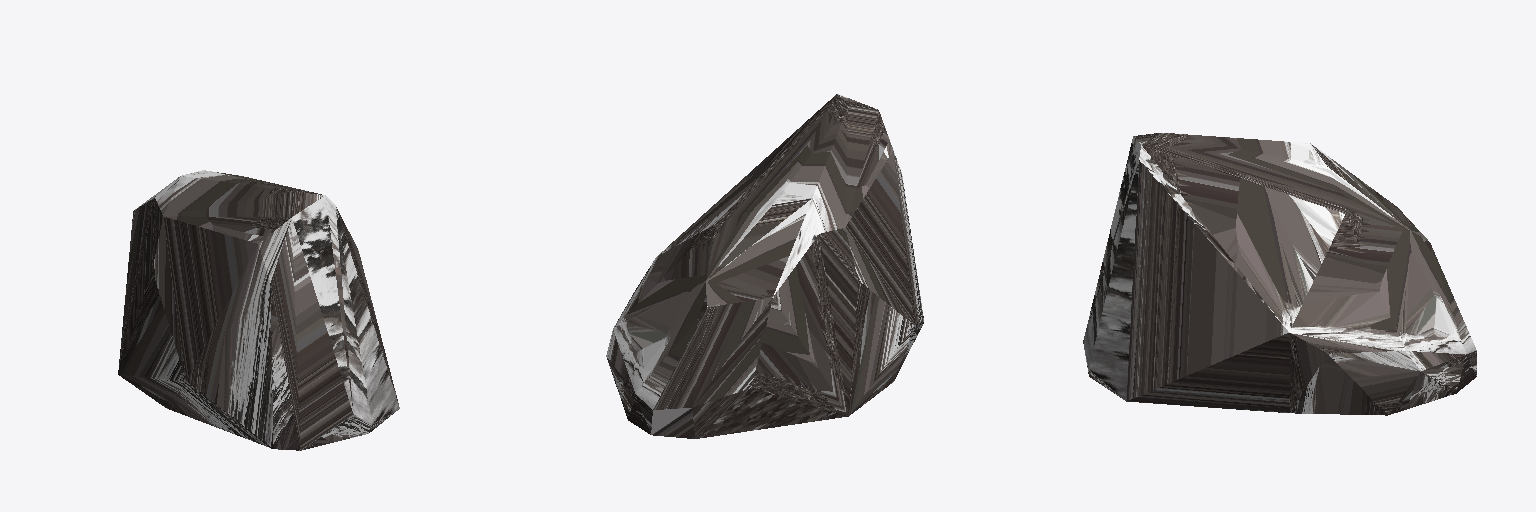
The picture shows the model from 3 angles: view 1: azimuth 30°, elevation 25°; view 2: azimuth 150°, elevation 25°; view 3: azimuth 270°, elevation 25°; orthographic projection.
Visible parts, largest first — view 1: D_Rock_Formation_CM; view 2: D_Rock_Formation_CM; view 3: D_Rock_Formation_CM.
Boxes of the visible parts, x1,y1,x2,y2 form: D_Rock_Formation_CM: [118, 170, 399, 450]; D_Rock_Formation_CM: [606, 94, 923, 438]; D_Rock_Formation_CM: [1083, 133, 1476, 415].
Bounding box in the file's own units: 24.32 × 24.01 × 37.92.
Materials: 1 (1 with a texture image).